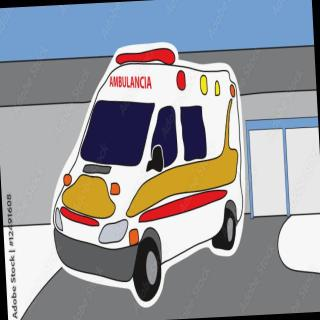Ambulance: (40, 20, 265, 313)
